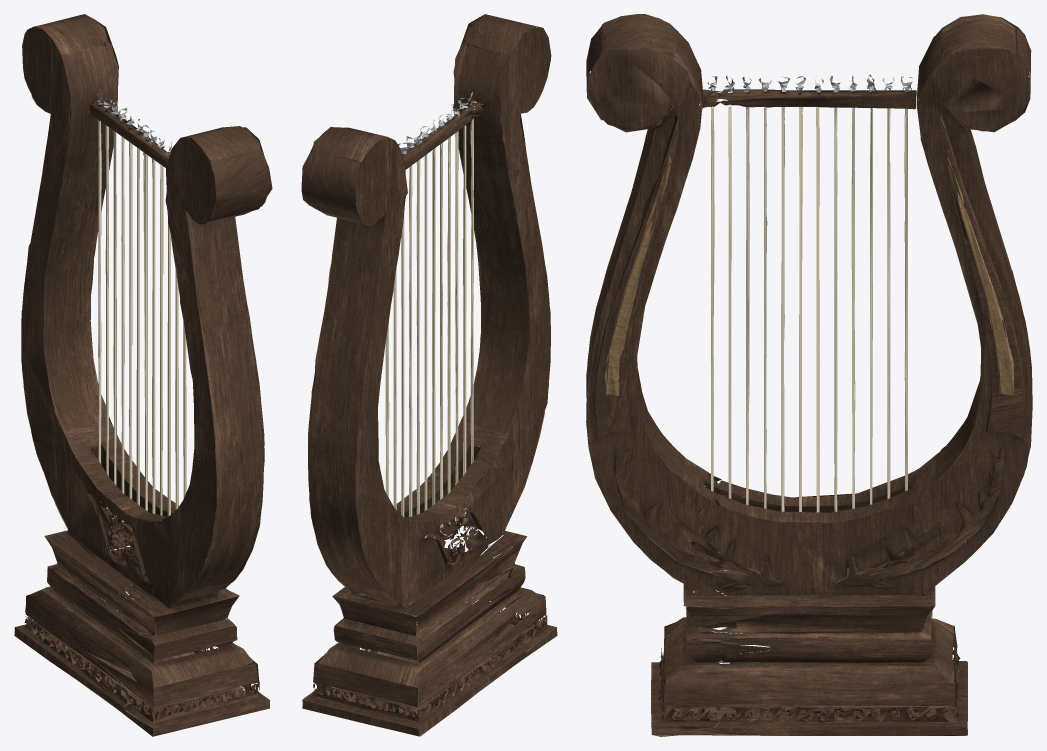
File: lyre.glb
The picture shows the model from 3 angles, left to right: view 1: azimuth 30°, elevation 25°; view 2: azimuth 150°, elevation 25°; view 3: azimuth 270°, elevation 25°; orthographic projection. The views are drawn at different scales.
Parts seen in each view (by area): view 1: Object_3, Object_4, Object_2, Object_5; view 2: Object_3, Object_4, Object_2, Object_5; view 3: Object_3, Object_4, Object_2, Object_6, Object_5.
Boxes of the visible parts, bbox=[...] form: Object_3: bbox=[14, 14, 251, 724]; Object_4: bbox=[87, 126, 272, 736]; Object_2: bbox=[98, 120, 186, 531]; Object_5: bbox=[95, 90, 171, 155]; Object_3: bbox=[301, 108, 535, 736]; Object_4: bbox=[402, 14, 557, 674]; Object_2: bbox=[385, 118, 473, 538]; Object_5: bbox=[398, 92, 475, 156]; Object_3: bbox=[679, 14, 1032, 735]; Object_4: bbox=[586, 14, 843, 736]; Object_2: bbox=[711, 104, 907, 512]; Object_6: bbox=[604, 154, 1013, 395]; Object_5: bbox=[707, 74, 912, 92].
Size of the model in its own units: 0.1411 by 0.679 by 0.4051.
4 materials, 4 textured.
